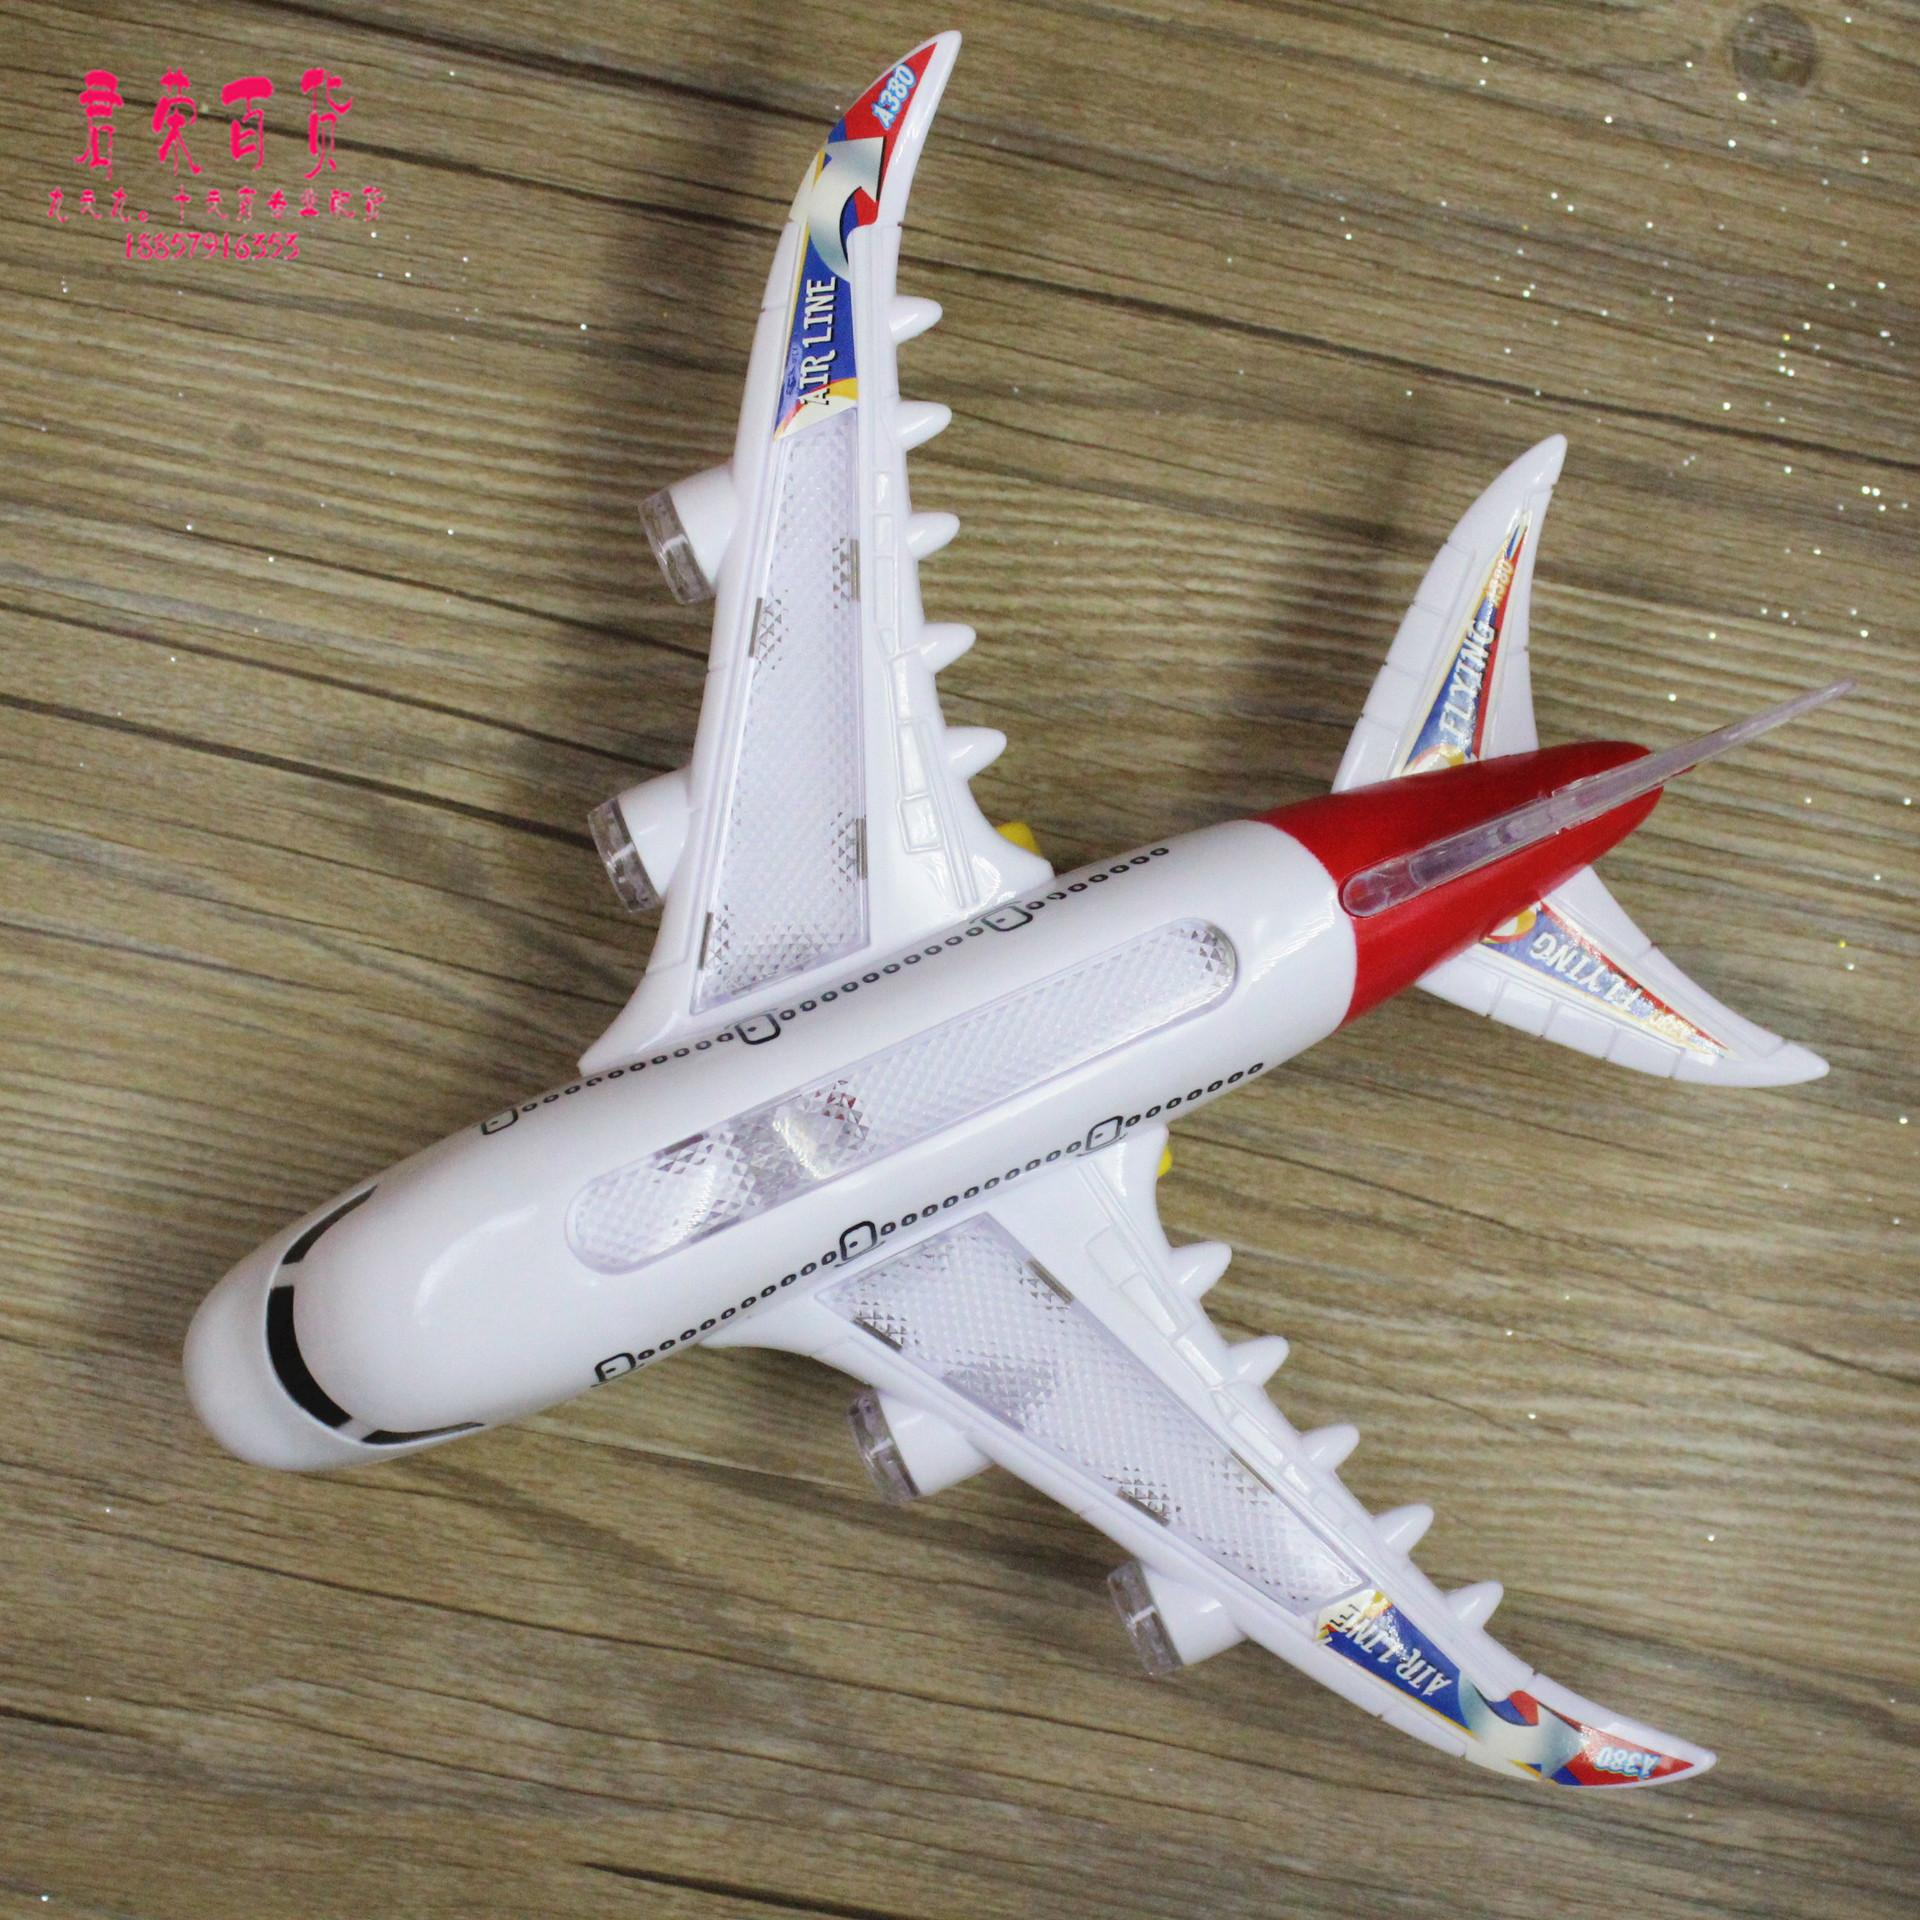airplane: (141, 39, 1755, 1779)
